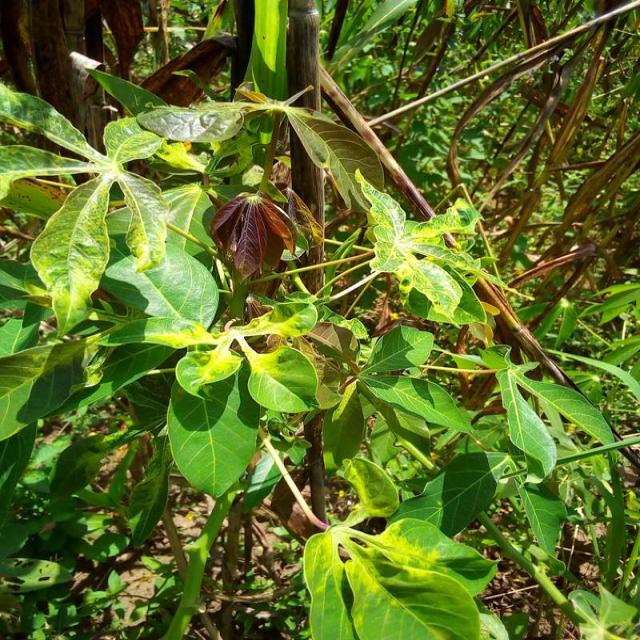cassava leaf: (302, 515, 498, 638), (166, 349, 260, 498)
